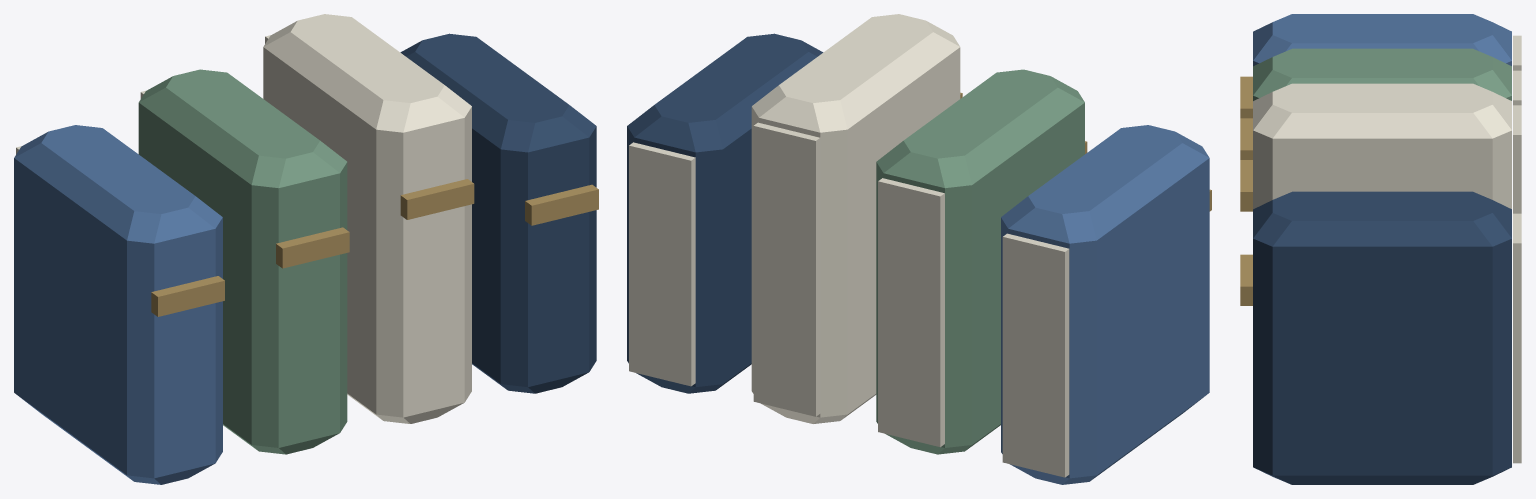
File: books.glb
3 views of the same model, side by side, from view 1: azimuth 30°, elevation 25°; view 2: azimuth 150°, elevation 25°; view 3: azimuth 270°, elevation 25° (orthographic). The views are drawn at different scales.
Visible parts, largest first — view 1: _MeshInstance3D_1048, _MeshInstance3D_1054, _MeshInstance3D_1051, _MeshInstance3D_1057, _MeshInstance3D_1055, _MeshInstance3D_1052, _MeshInstance3D_1058, _MeshInstance3D_1049; view 2: _MeshInstance3D_1048, _MeshInstance3D_1054, _MeshInstance3D_1051, _MeshInstance3D_1057, _MeshInstance3D_1056, _MeshInstance3D_1053, _MeshInstance3D_1050, _MeshInstance3D_1059; view 3: _MeshInstance3D_1057, _MeshInstance3D_1054, _MeshInstance3D_1051, _MeshInstance3D_1048, _MeshInstance3D_1059, _MeshInstance3D_1056, _MeshInstance3D_1055, _MeshInstance3D_1058, _MeshInstance3D_1049, _MeshInstance3D_1052, _MeshInstance3D_1050, _MeshInstance3D_1053.
Boxes of the visible parts, x1,y1,x2,y2 form: _MeshInstance3D_1048: (14,125,222,484); _MeshInstance3D_1054: (263,14,471,423); _MeshInstance3D_1051: (138,69,347,454); _MeshInstance3D_1057: (400,33,596,393); _MeshInstance3D_1055: (400,179,474,219); _MeshInstance3D_1052: (276,227,349,268); _MeshInstance3D_1058: (525,184,598,225); _MeshInstance3D_1049: (151,276,224,316); _MeshInstance3D_1048: (1001,125,1209,484); _MeshInstance3D_1054: (751,14,960,423); _MeshInstance3D_1051: (876,69,1084,454); _MeshInstance3D_1057: (627,33,823,393); _MeshInstance3D_1056: (753,122,820,416); _MeshInstance3D_1053: (878,178,944,447); _MeshInstance3D_1050: (1002,233,1069,477); _MeshInstance3D_1059: (629,142,695,386); _MeshInstance3D_1057: (1253,191,1511,484); _MeshInstance3D_1054: (1253,83,1511,209); _MeshInstance3D_1051: (1253,48,1511,100); _MeshInstance3D_1048: (1253,14,1511,66); _MeshInstance3D_1059: (1513,213,1521,463); _MeshInstance3D_1056: (1513,105,1521,213); _MeshInstance3D_1055: (1240,160,1252,211); _MeshInstance3D_1058: (1240,254,1252,305); _MeshInstance3D_1049: (1240,76,1252,118); _MeshInstance3D_1052: (1240,118,1252,159); _MeshInstance3D_1050: (1513,35,1521,70); _MeshInstance3D_1053: (1513,70,1521,105).
Size of the model in its own units: 0.49 by 0.32 by 0.261.
